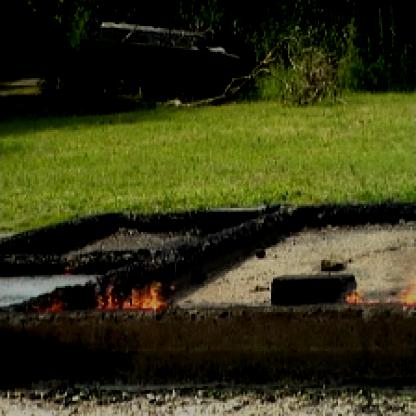Fire: (34, 278, 174, 316), (334, 271, 414, 308)
